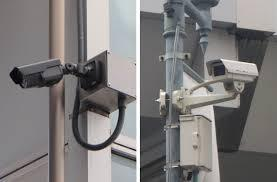tutu: (1, 48, 75, 97), (203, 51, 264, 94)
